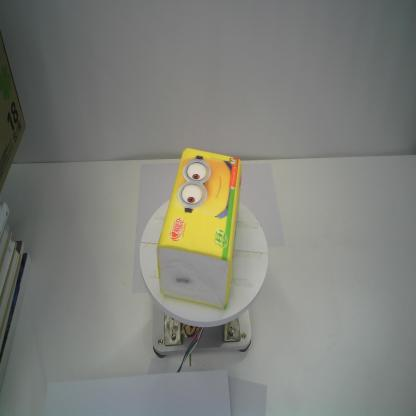Tissue: (155, 148, 243, 311)
